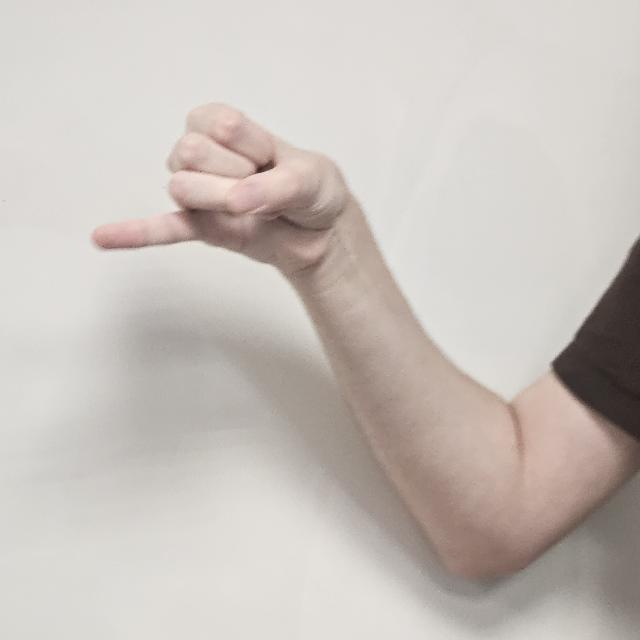Esquerda: (98, 86, 358, 324)
